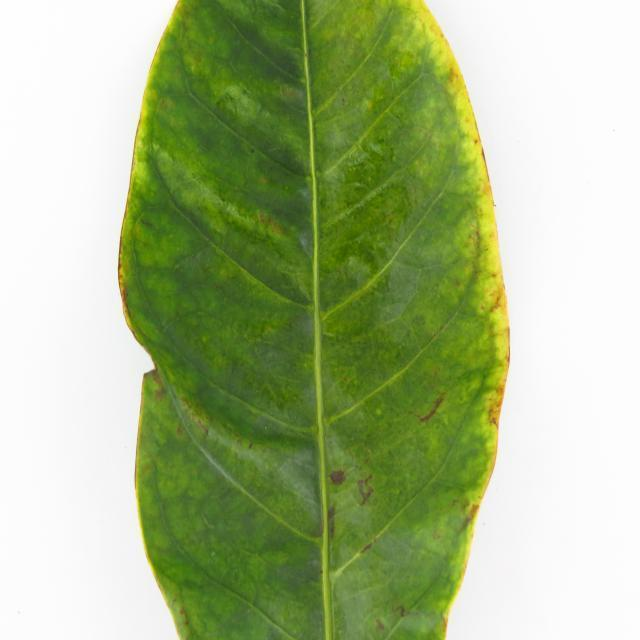DeficienciaNutricional-Manganeso: (119, 2, 509, 638)
